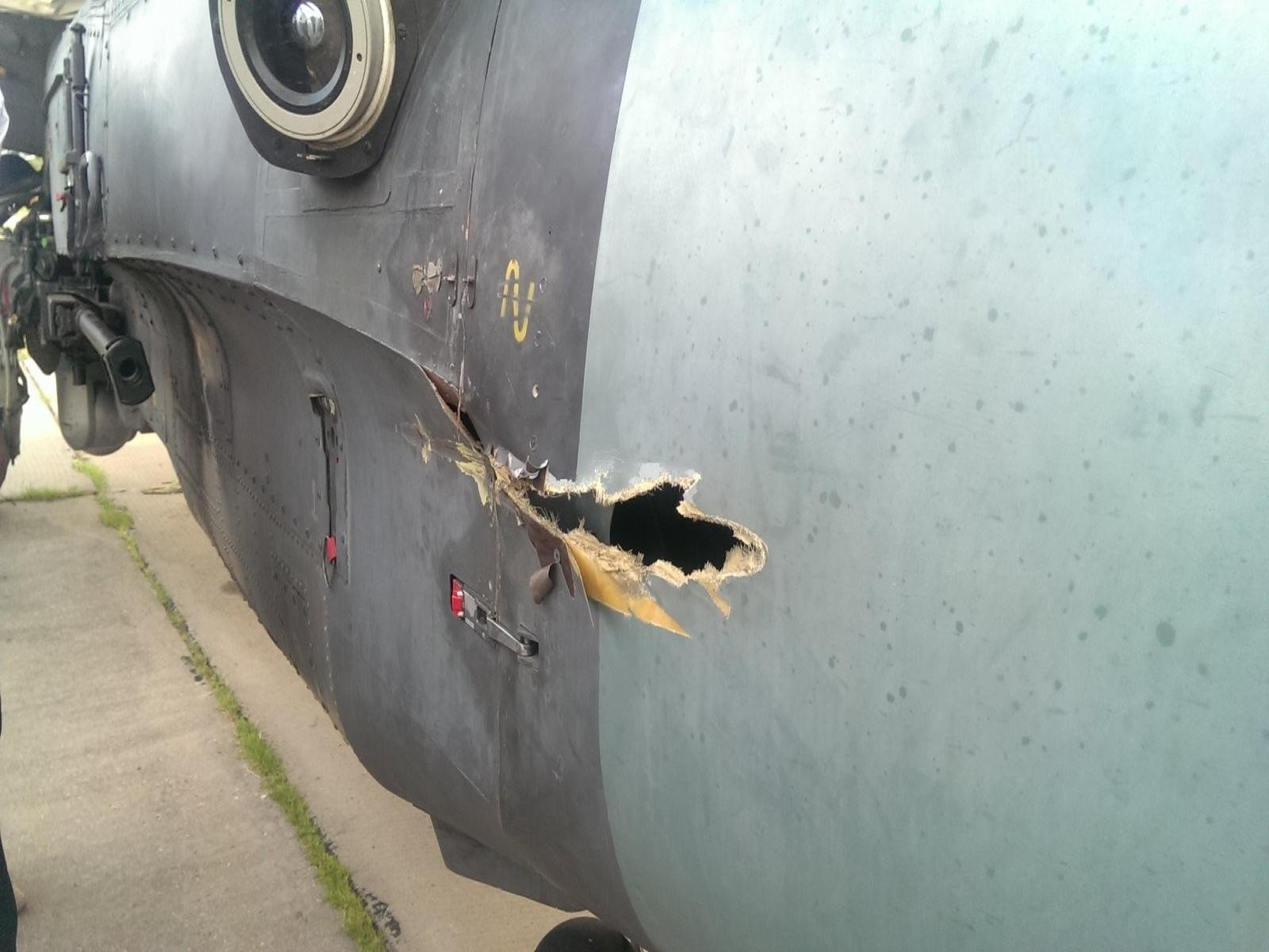Skin_Cover: (493, 460, 767, 634)
